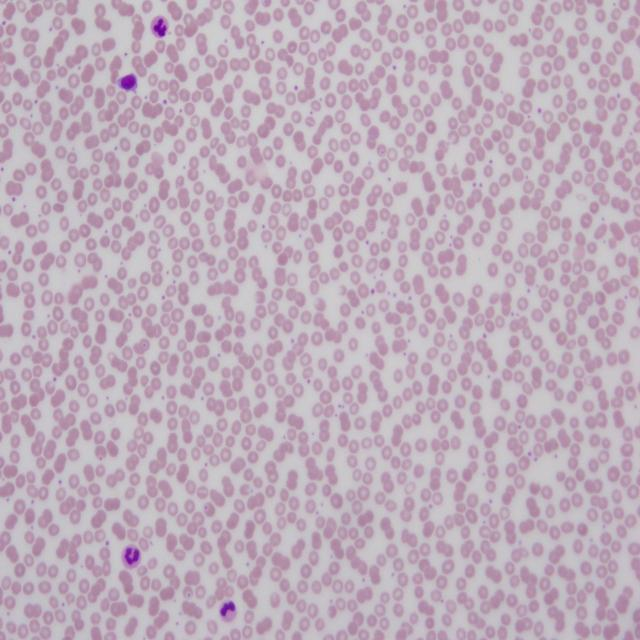cell: (122, 545, 141, 569), (151, 16, 169, 38), (220, 601, 236, 622)
